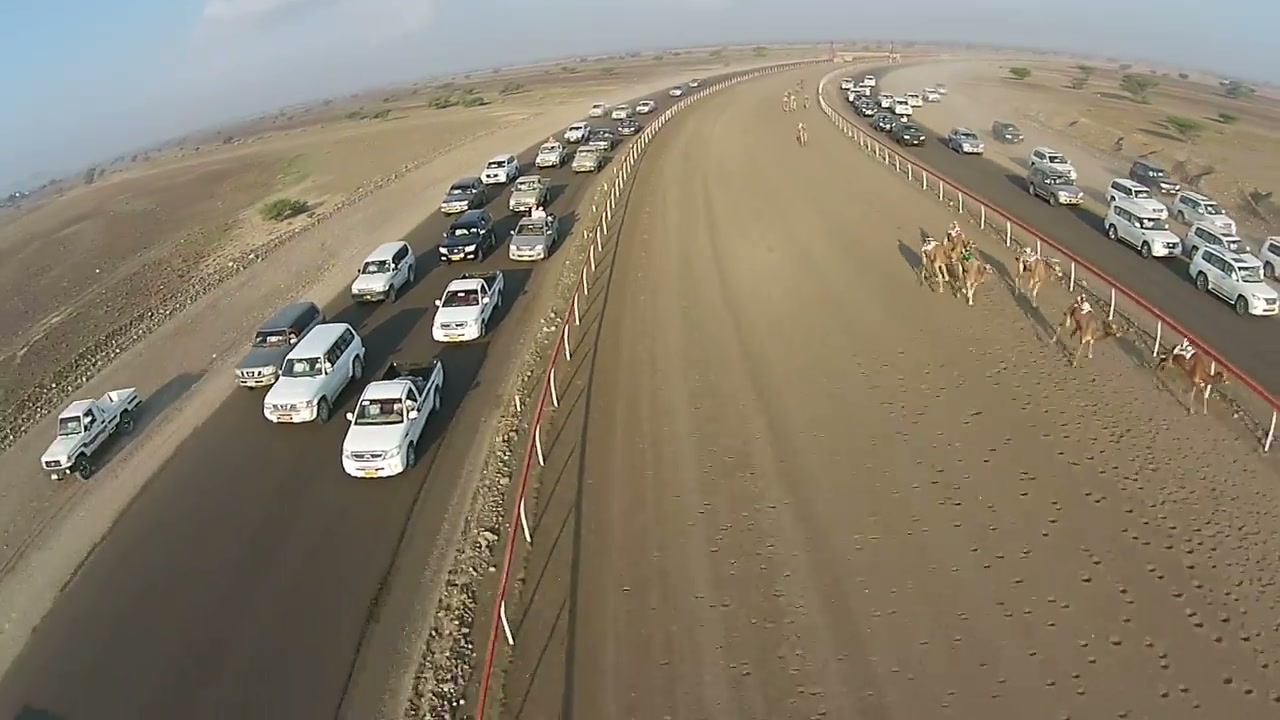animal_footprint: (864, 287, 1264, 709)
